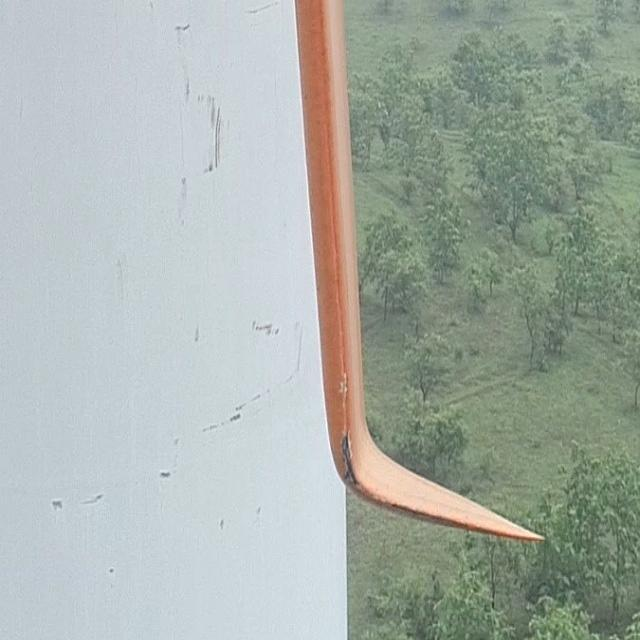EROSION: (341, 429, 361, 486), (392, 504, 448, 522)
